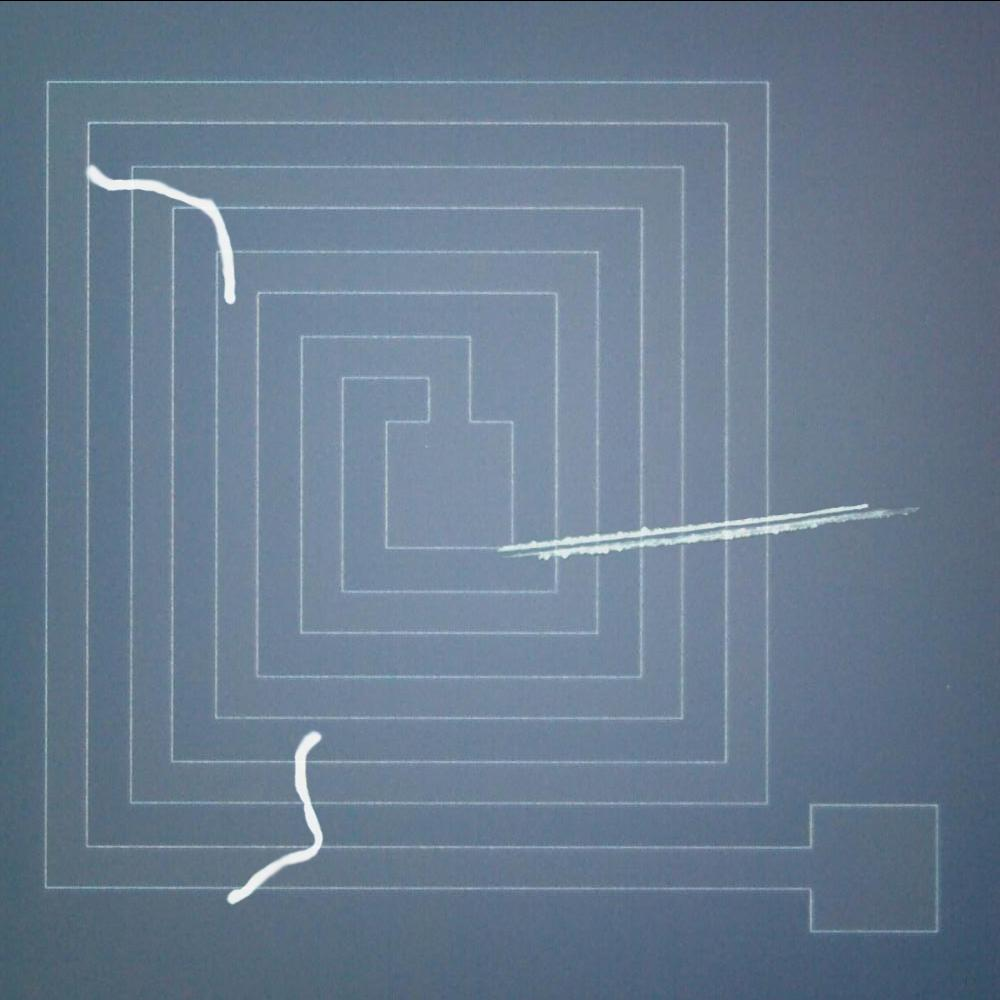line: (76, 156, 250, 312), (219, 726, 332, 910)
scratch: (490, 490, 927, 572)
